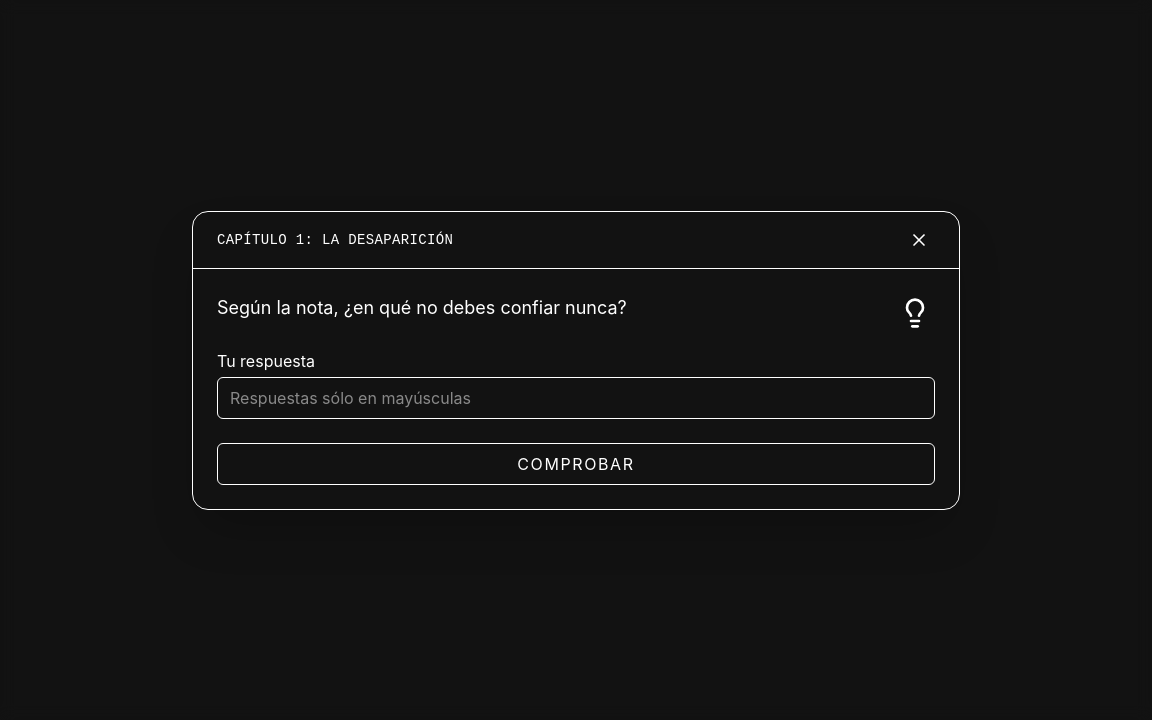
Test case: PuzzleWindow › shows an incorrect answer alert when the answer is wrong
This screenshot has width=1152, height=720.
Type "MAL" into the field labelled "Tu respuesta".
click(576, 398); type("MAL")  # box 217,376 -> 935,418
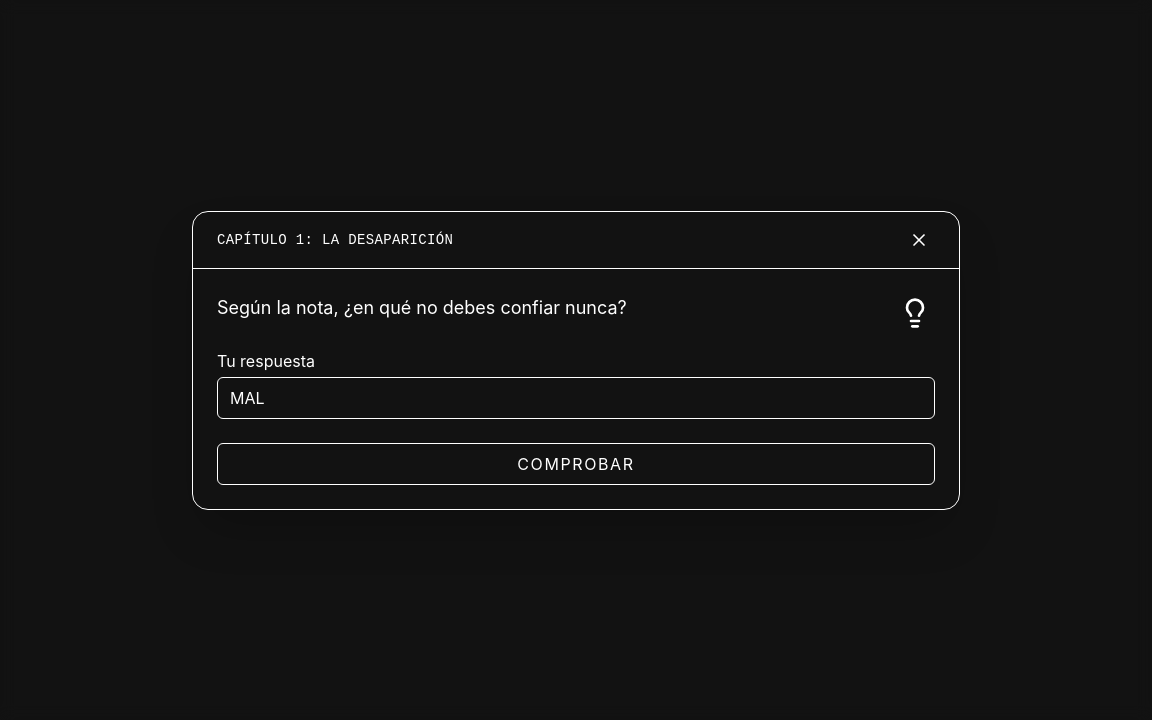
Submit the form, box 217,292 -> 935,484
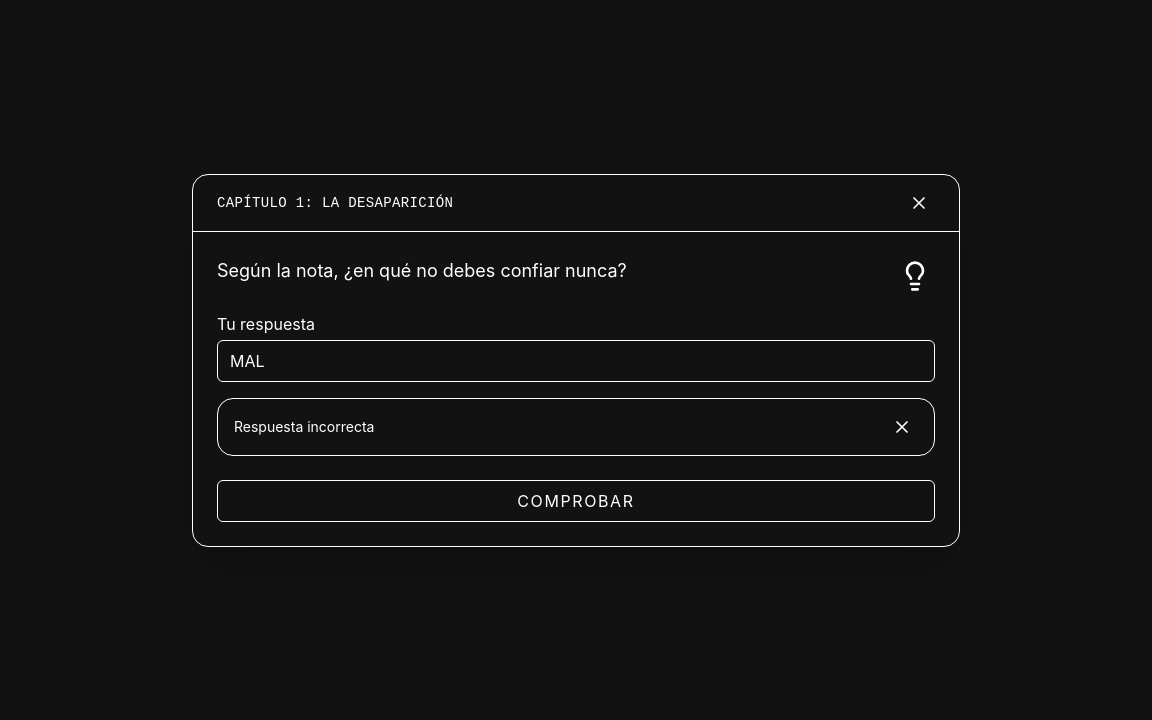
expect the message "Respuesta incorrecta" is shown: met, box 217,398 -> 935,456
